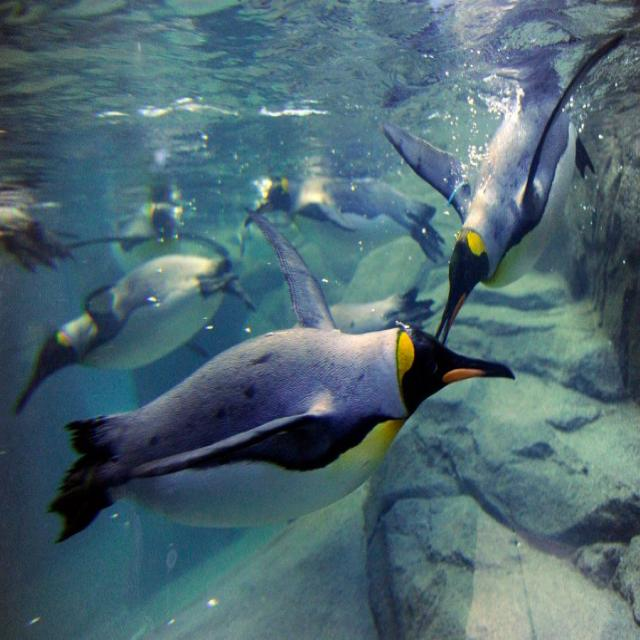penguin: (51, 220, 514, 539), (385, 33, 621, 342), (16, 254, 249, 408)
